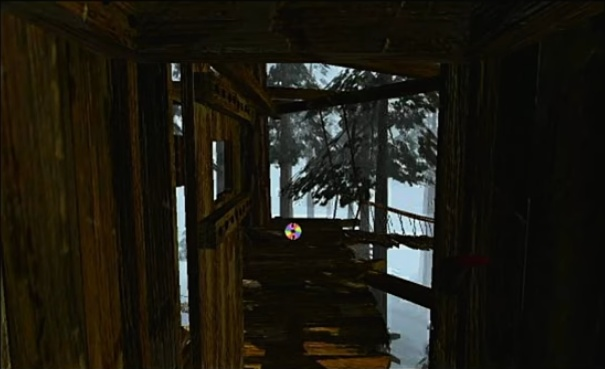Waiting: (281, 218, 305, 241)
